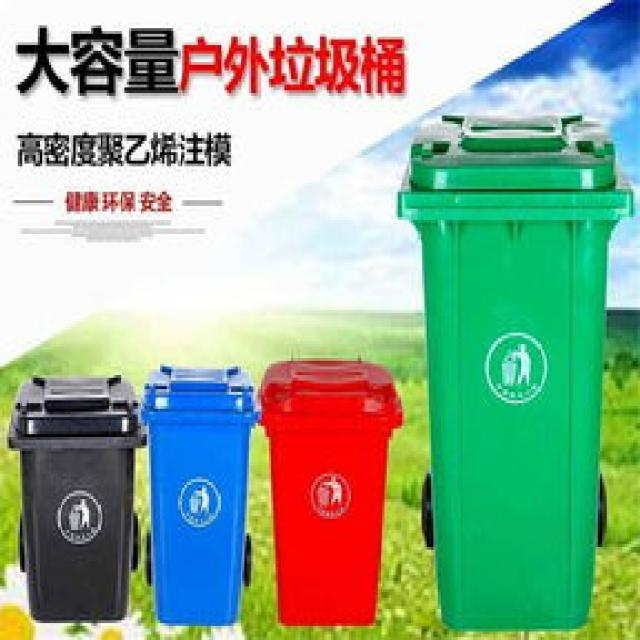garbage_bin: (391, 107, 629, 629), (256, 358, 402, 623), (7, 372, 142, 623), (138, 361, 258, 623)
